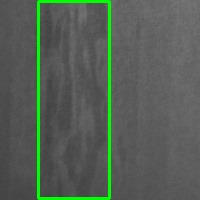inclusion: (38, 1, 109, 198)
